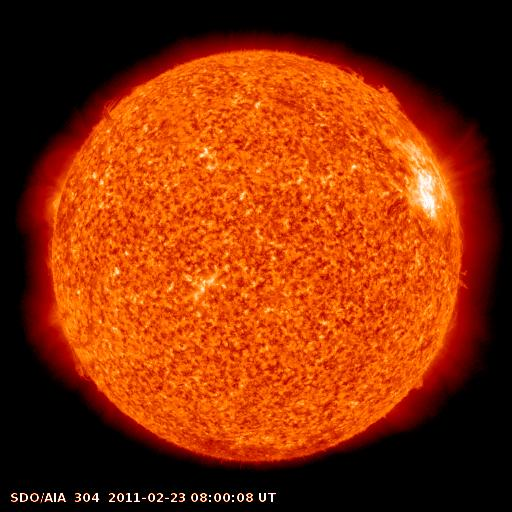prominence: (323, 53, 409, 115), (92, 86, 135, 128), (66, 345, 103, 391)
